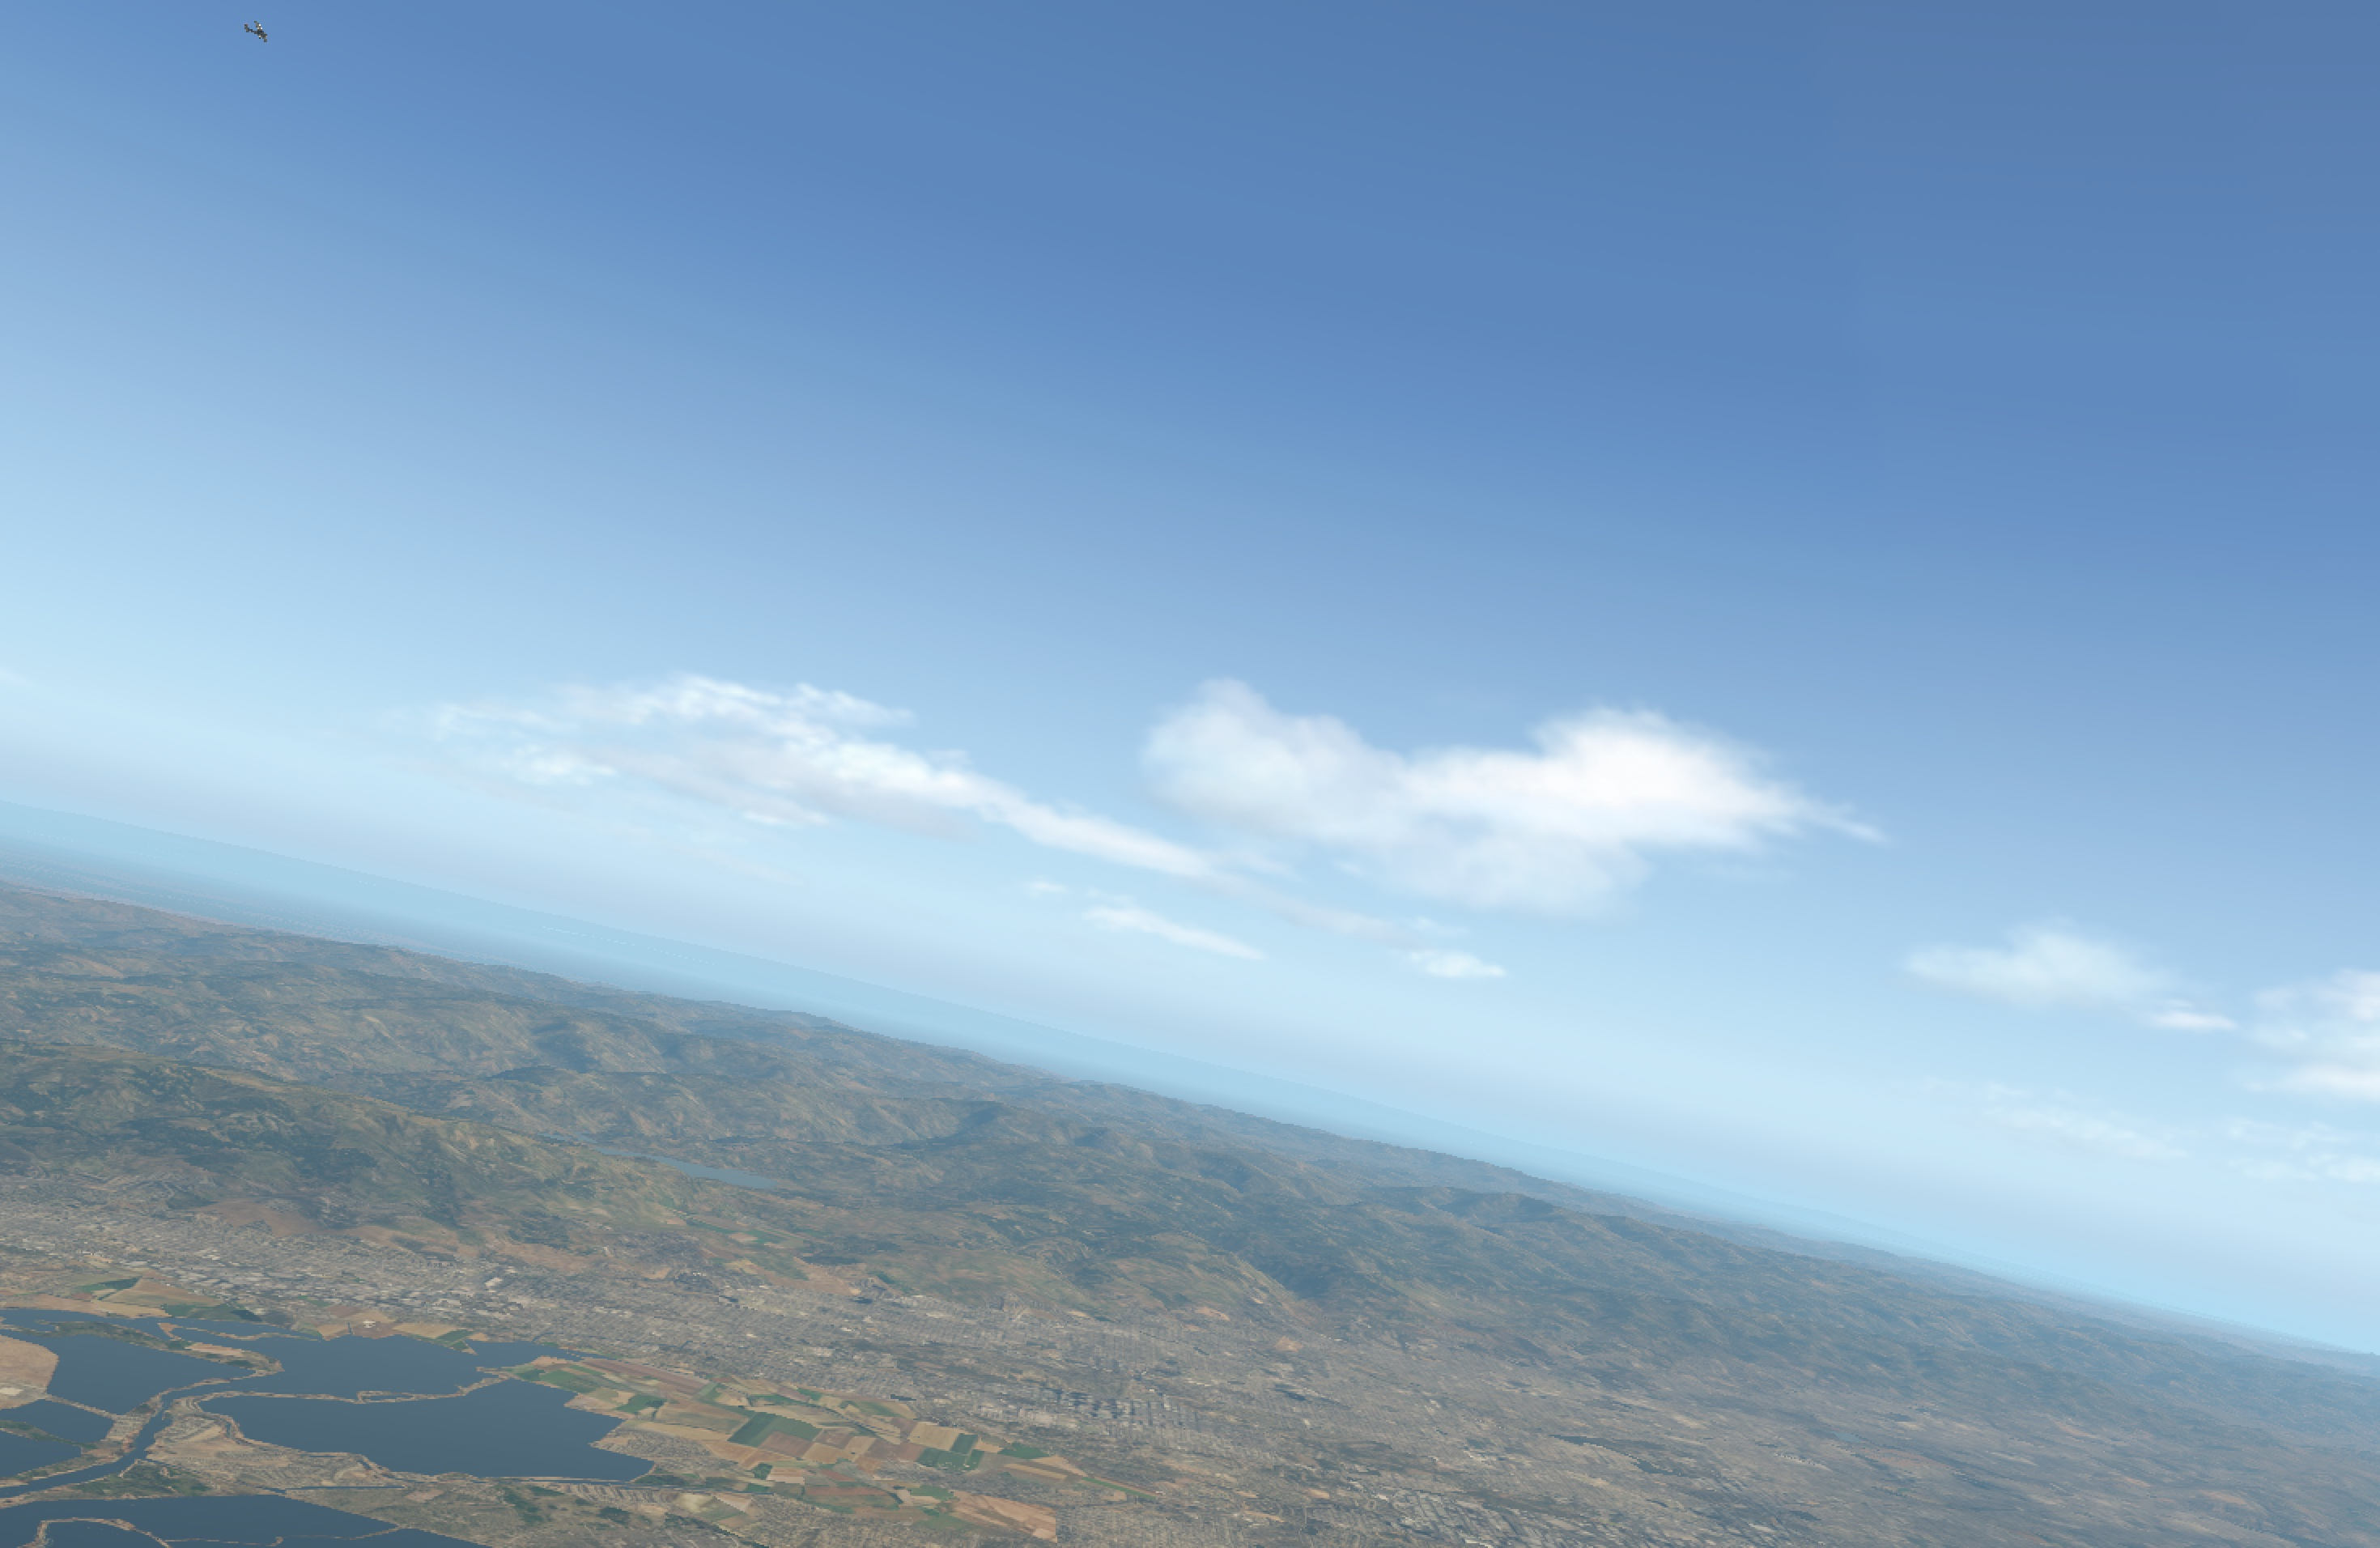aircraft: (250, 30, 272, 38)
